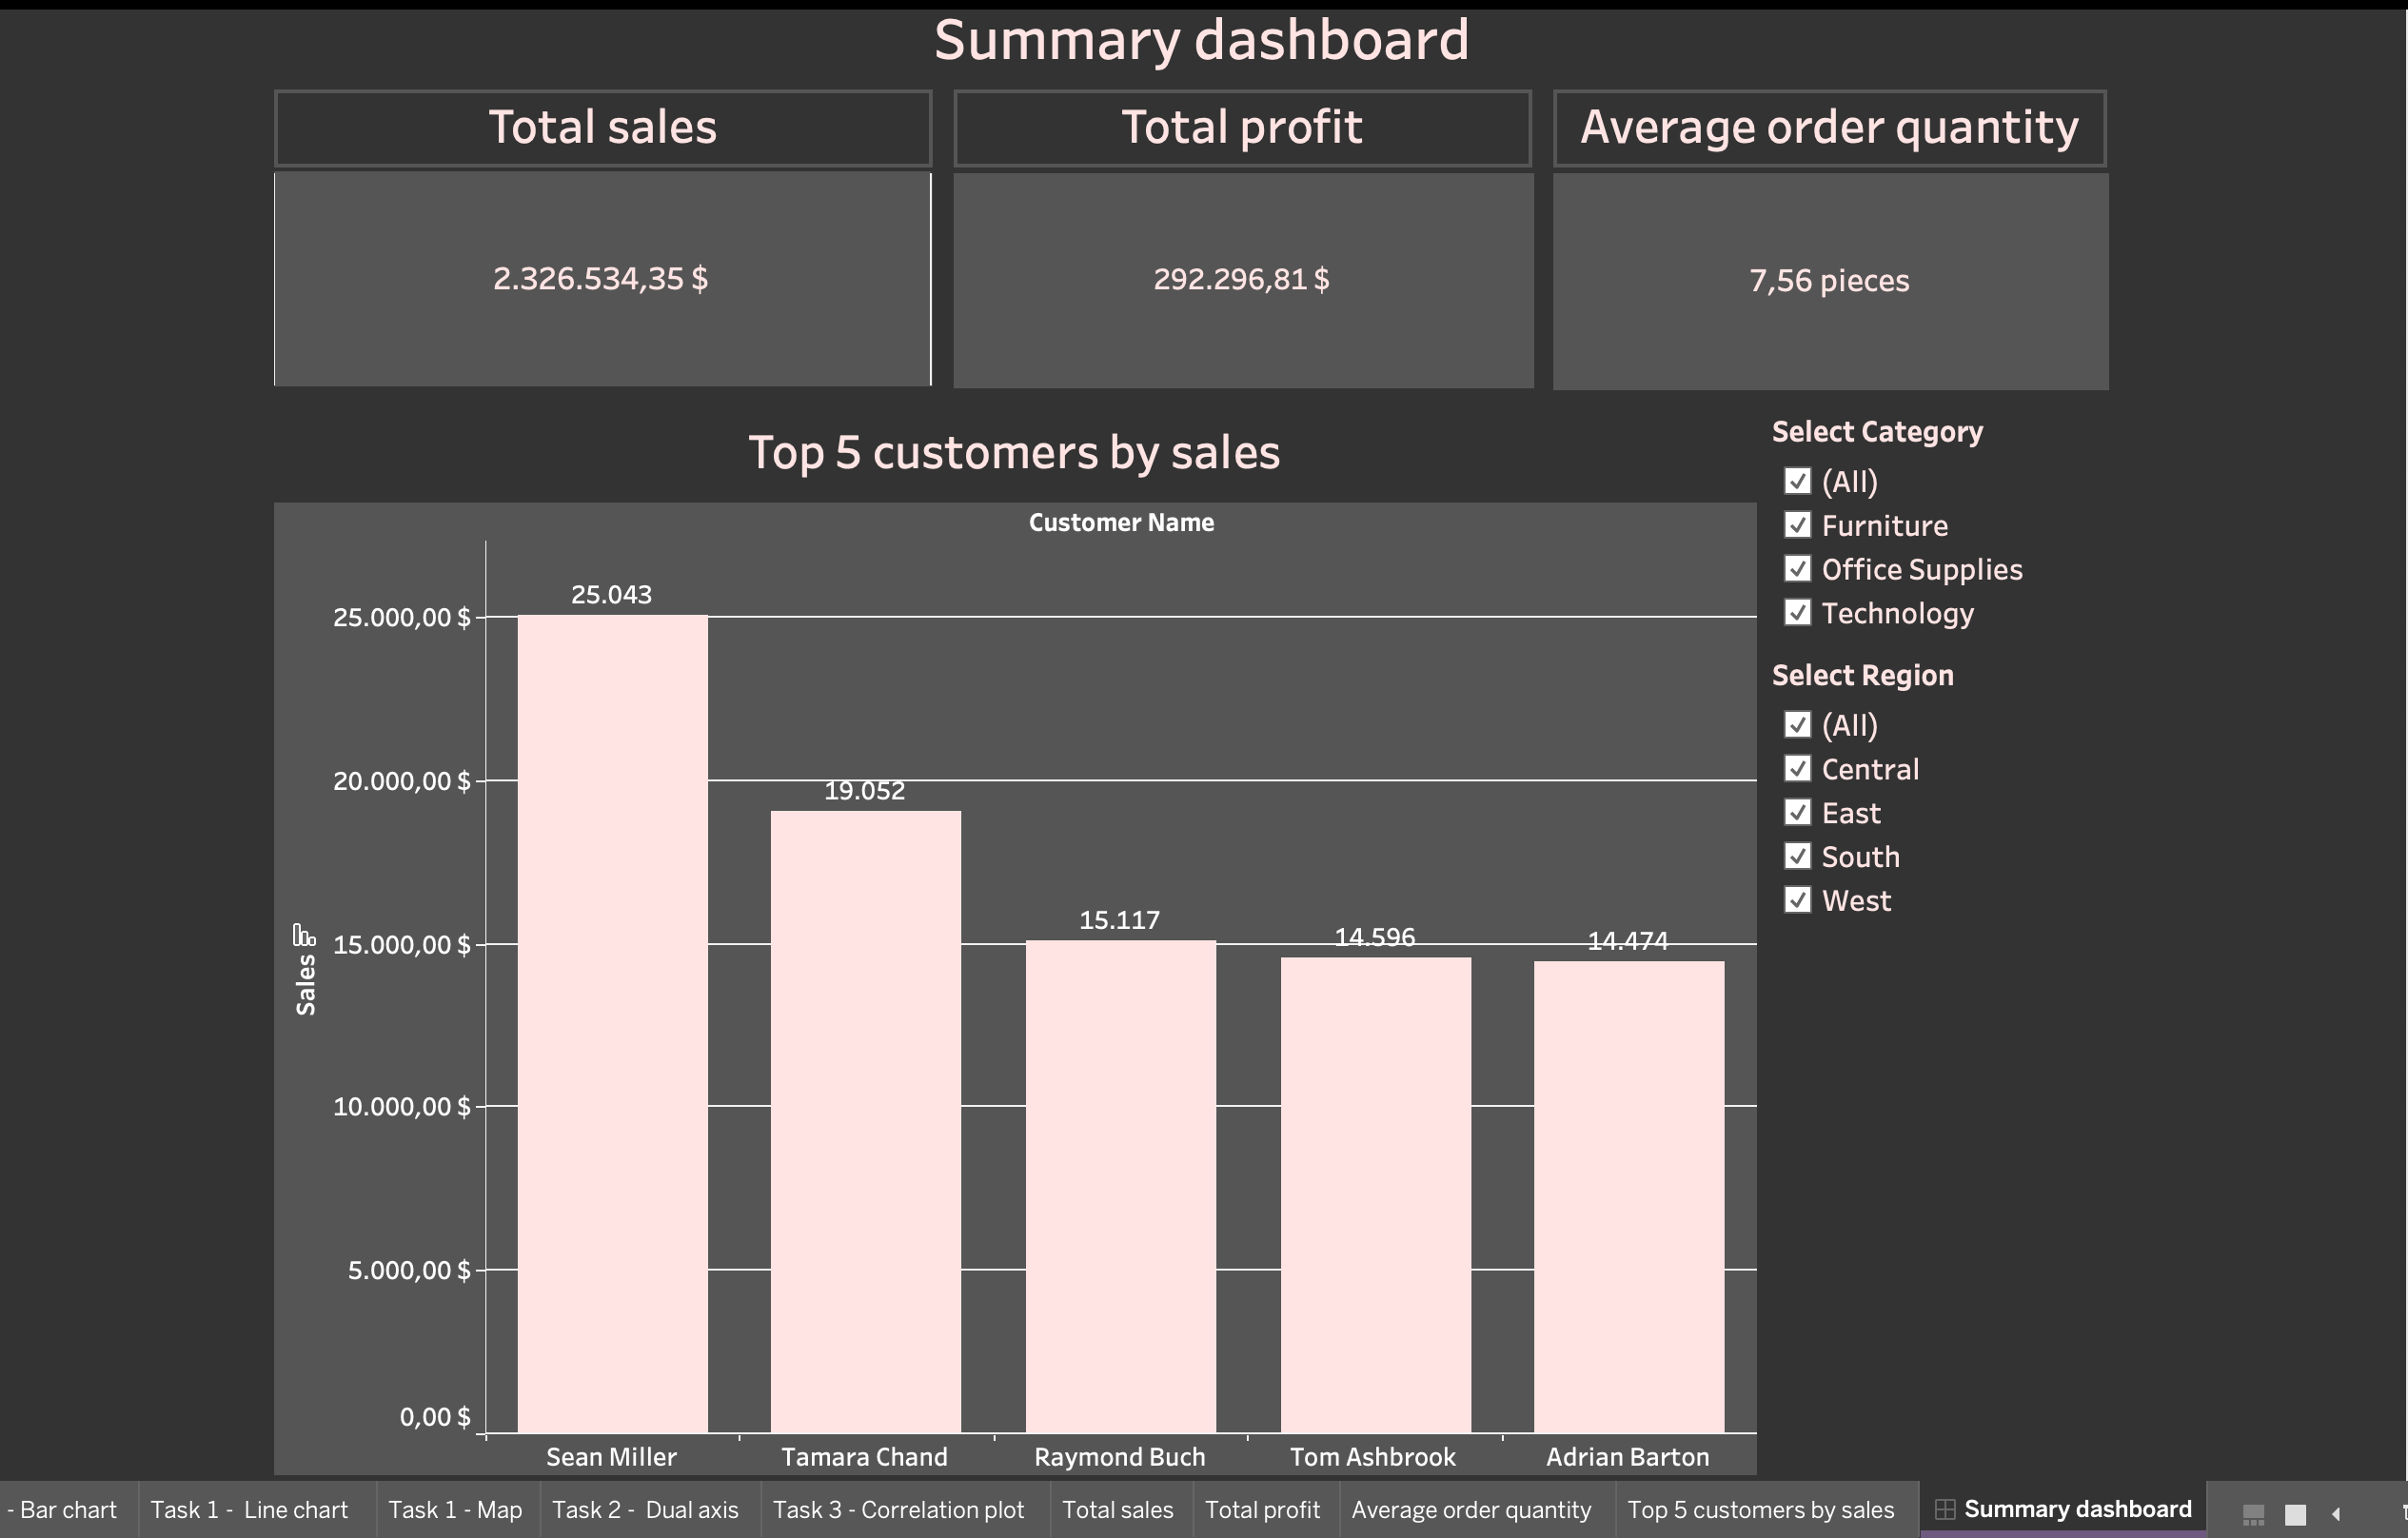

What the dashboard file says about the page in this screenshot:
{"tool":"tableau","page":{"name":"Summary dashboard","canvas":[1000,800],"ordinal":0},"visuals":[{"type":"title","box":[8,8,984,48]},{"type":"worksheet","title":"Total sales","mark":"Automatic","box":[8,56,357,169]},{"type":"worksheet","title":"Total profit","mark":"Automatic","box":[365,56,315,169]},{"type":"worksheet","title":"Average order quantity","mark":"Automatic","box":[680,56,312,169]},{"type":"worksheet","title":"Top 5 customers by sales","mark":"Automatic","rows":["Sales"],"cols":["Customer Name"],"box":[8,225,787,567]},{"type":"filter","title":"Total profit","param":"[federated.03q6tn80ww9e17158ytke1f6ngh4].[none:Category:nk]","box":[795,225,197,128]},{"type":"filter","title":"Total profit","param":"[federated.03q6tn80ww9e17158ytke1f6ngh4].[none:Region:nk]","box":[795,353,197,151]}]}

Visuals, with their boxes on the page's 1000x800 design canvas (x1, y1, x2, y2). These are canvas units, not pixel positions in the 2408x1538 screenshot, which may show the page scaled, cropped or inside an application window:
title: 8 8 992 56
"Total sales" worksheet: 8 56 365 225
"Total profit" worksheet: 365 56 680 225
"Average order quantity" worksheet: 680 56 992 225
"Top 5 customers by sales" worksheet: 8 225 795 792
"Total profit" filter: 795 225 992 353
"Total profit" filter: 795 353 992 504
